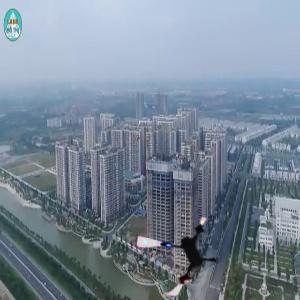drone: (132, 207, 226, 300)
